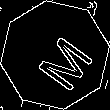M_NW: (21, 21, 89, 89)
